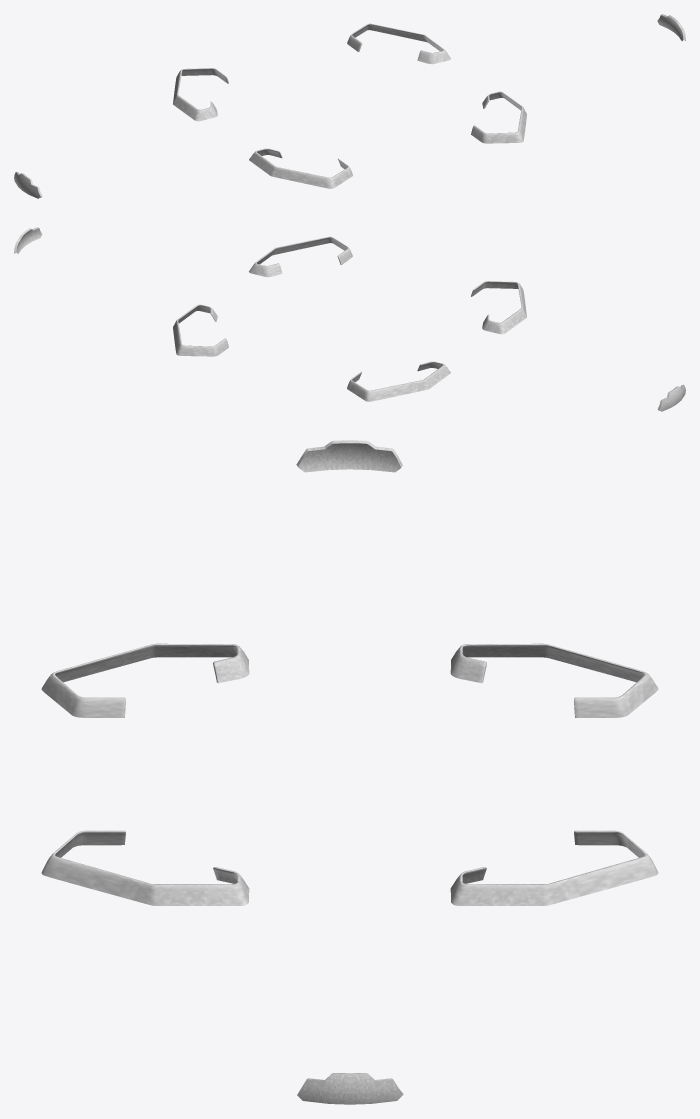
Rendered from pref_sm_4v4pointbake_WSJ_CSD_BL_lv2.fbx.
3 renders of one model, top to bottom at view 1: azimuth 30°, elevation 25°; view 2: azimuth 150°, elevation 25°; view 3: azimuth 270°, elevation 25°, orthographic. The views are drawn at different scales.
Visible parts, largest first — view 1: sm_4v4pointbake_CSD_BL03_lv2, sm_4v4pointbake_CSD_BL04_lv2, sm_4v4pointbake_CSD_BL01_lv2, sm_4v4pointbake_CSD_BL02_lv2; view 2: sm_4v4pointbake_CSD_BL03_lv2, sm_4v4pointbake_CSD_BL04_lv2, sm_4v4pointbake_CSD_BL01_lv2, sm_4v4pointbake_CSD_BL02_lv2; view 3: sm_4v4pointbake_CSD_BL04_lv2, sm_4v4pointbake_CSD_BL03_lv2, sm_4v4pointbake_CSD_BL02_lv2, sm_4v4pointbake_CSD_BL01_lv2.
Boxes of the visible parts, x1,y1,x2,y2 form: sm_4v4pointbake_CSD_BL03_lv2: (173, 68, 352, 188); sm_4v4pointbake_CSD_BL04_lv2: (347, 23, 526, 143); sm_4v4pointbake_CSD_BL01_lv2: (14, 172, 42, 198); sm_4v4pointbake_CSD_BL02_lv2: (657, 14, 685, 40); sm_4v4pointbake_CSD_BL03_lv2: (347, 281, 526, 401); sm_4v4pointbake_CSD_BL04_lv2: (173, 236, 352, 356); sm_4v4pointbake_CSD_BL01_lv2: (657, 384, 685, 411); sm_4v4pointbake_CSD_BL02_lv2: (14, 227, 42, 253); sm_4v4pointbake_CSD_BL04_lv2: (41, 830, 658, 905); sm_4v4pointbake_CSD_BL03_lv2: (41, 643, 658, 717); sm_4v4pointbake_CSD_BL02_lv2: (297, 1073, 403, 1104); sm_4v4pointbake_CSD_BL01_lv2: (296, 440, 402, 472).
Size of the model in its own units: 77.24 by 1.6 by 31.5.
